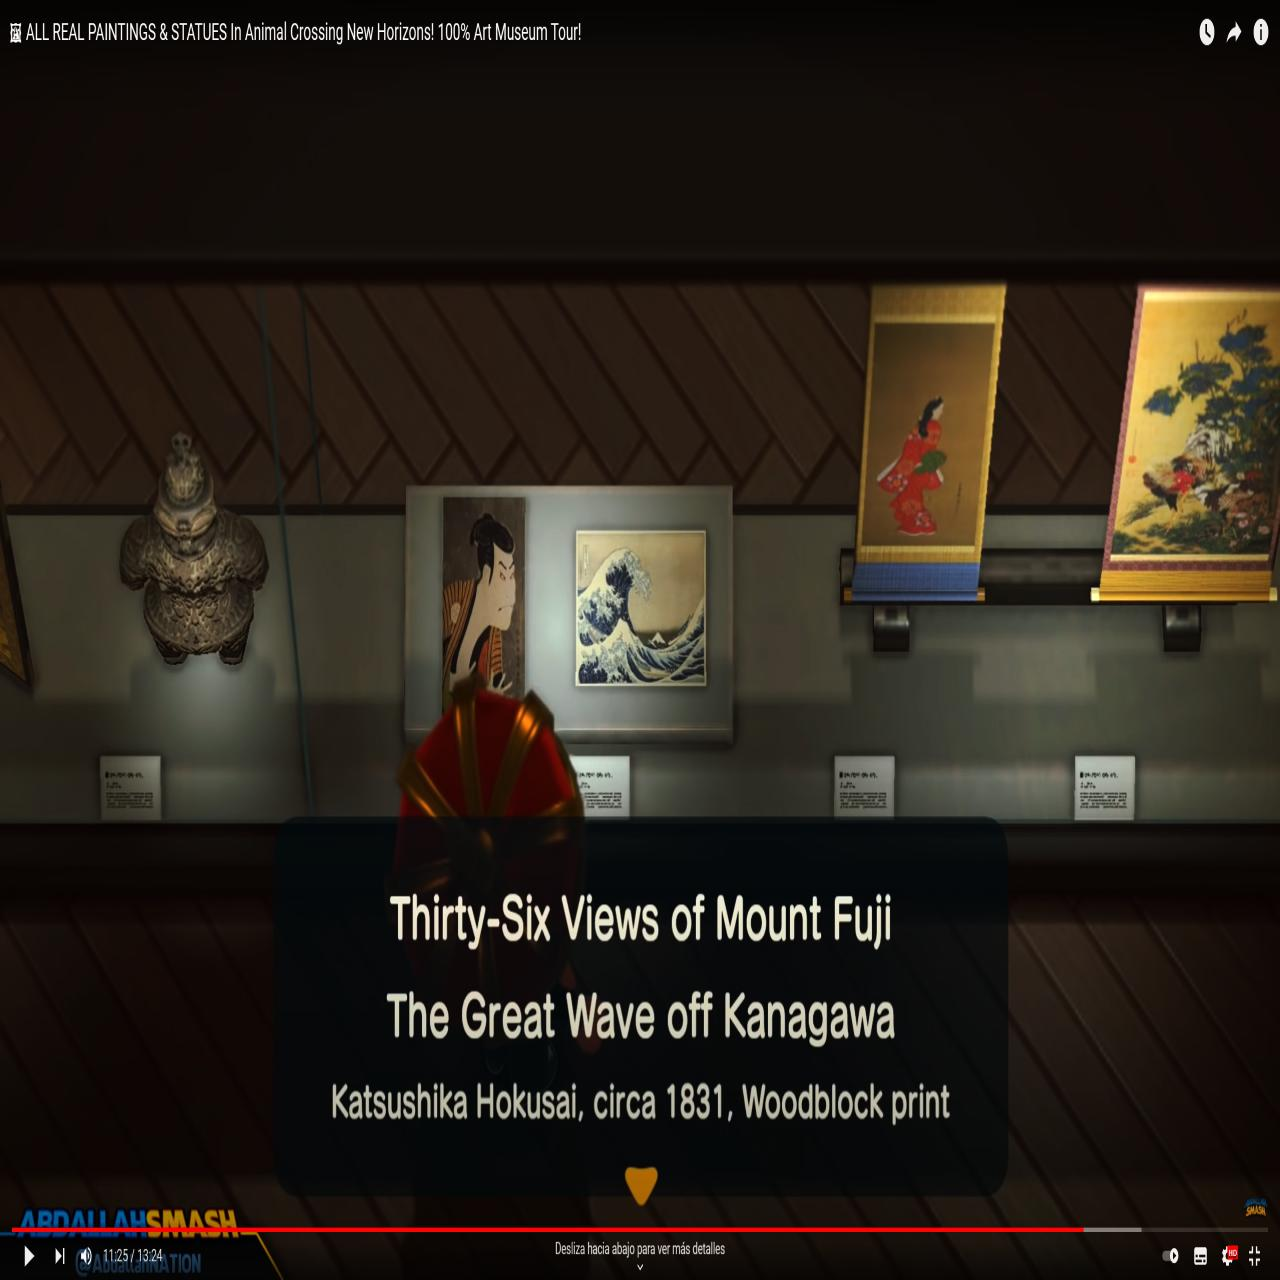Doguu: (120, 428, 274, 686)
Kanagawa: (579, 531, 708, 685)
Mikaeri: (866, 320, 995, 550)
OotaniOniji: (444, 497, 526, 697)
